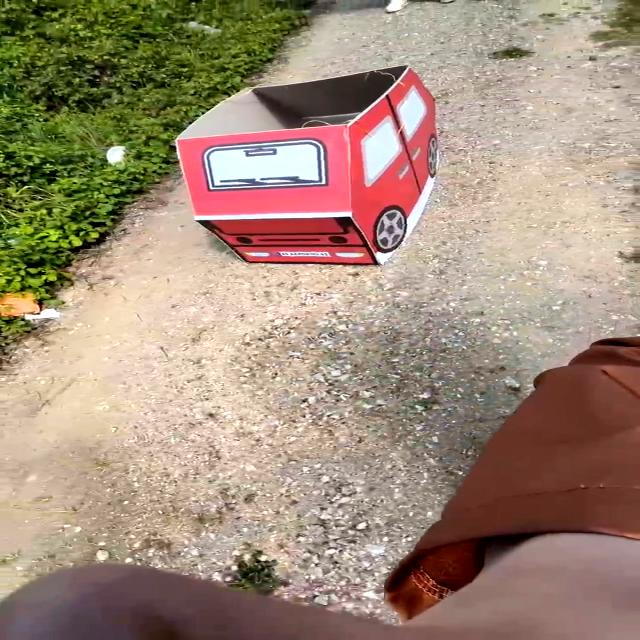red_car: (116, 49, 478, 314)
